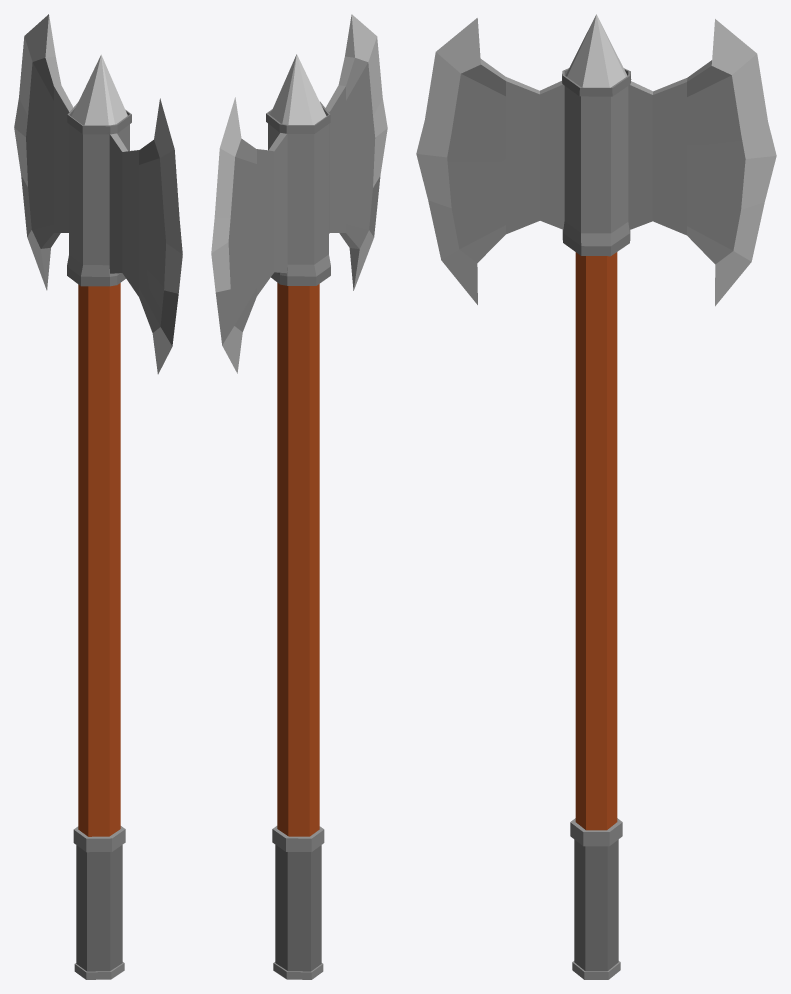
File: Greataxe.glb
3 renders of one model, left to right at view 1: azimuth 30°, elevation 25°; view 2: azimuth 150°, elevation 25°; view 3: azimuth 270°, elevation 25°, orthographic. The views are drawn at different scales.
Visible parts, largest first — view 1: Great Axe, Great Axe.005; view 2: Great Axe, Great Axe.005; view 3: Great Axe, Great Axe.005.
Part boxes in pixels (x1=…): Great Axe: x1=14, y1=14, x2=182, y2=374; Great Axe.005: x1=73, y1=283, x2=125, y2=979; Great Axe: x1=211, y1=14, x2=387, y2=373; Great Axe.005: x1=272, y1=283, x2=324, y2=979; Great Axe: x1=416, y1=14, x2=776, y2=306; Great Axe.005: x1=570, y1=252, x2=622, y2=979.
Size of the model in its own units: 0.0232 by 0.3953 by 0.1349.
